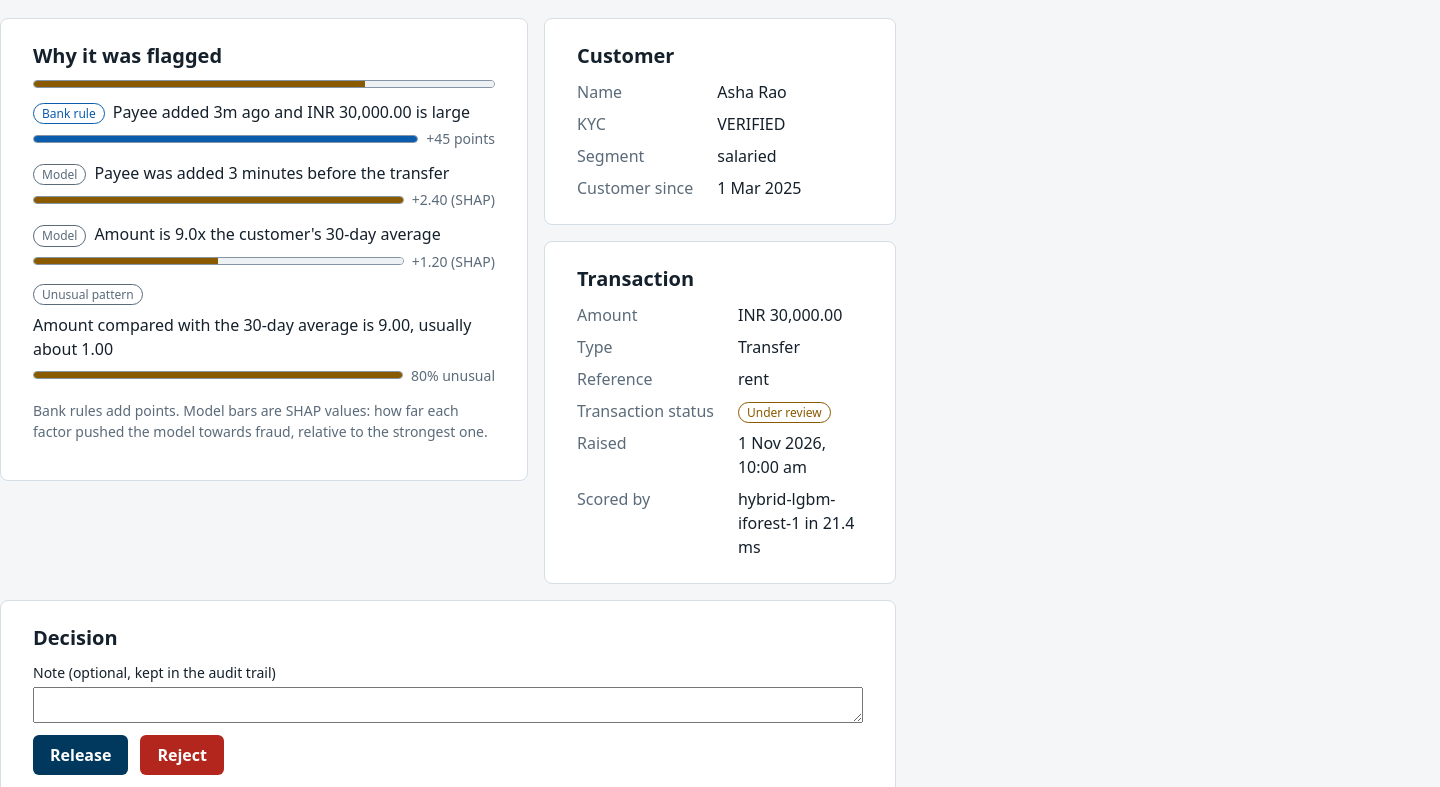
FraudAlert › Reject asks for confirmation and posts the decision with the note
(page scrolled)
In the text box labelled "Note (optional, kept in the audit trail)": [448, 705] box [33, 687, 863, 723], type "called the customer"
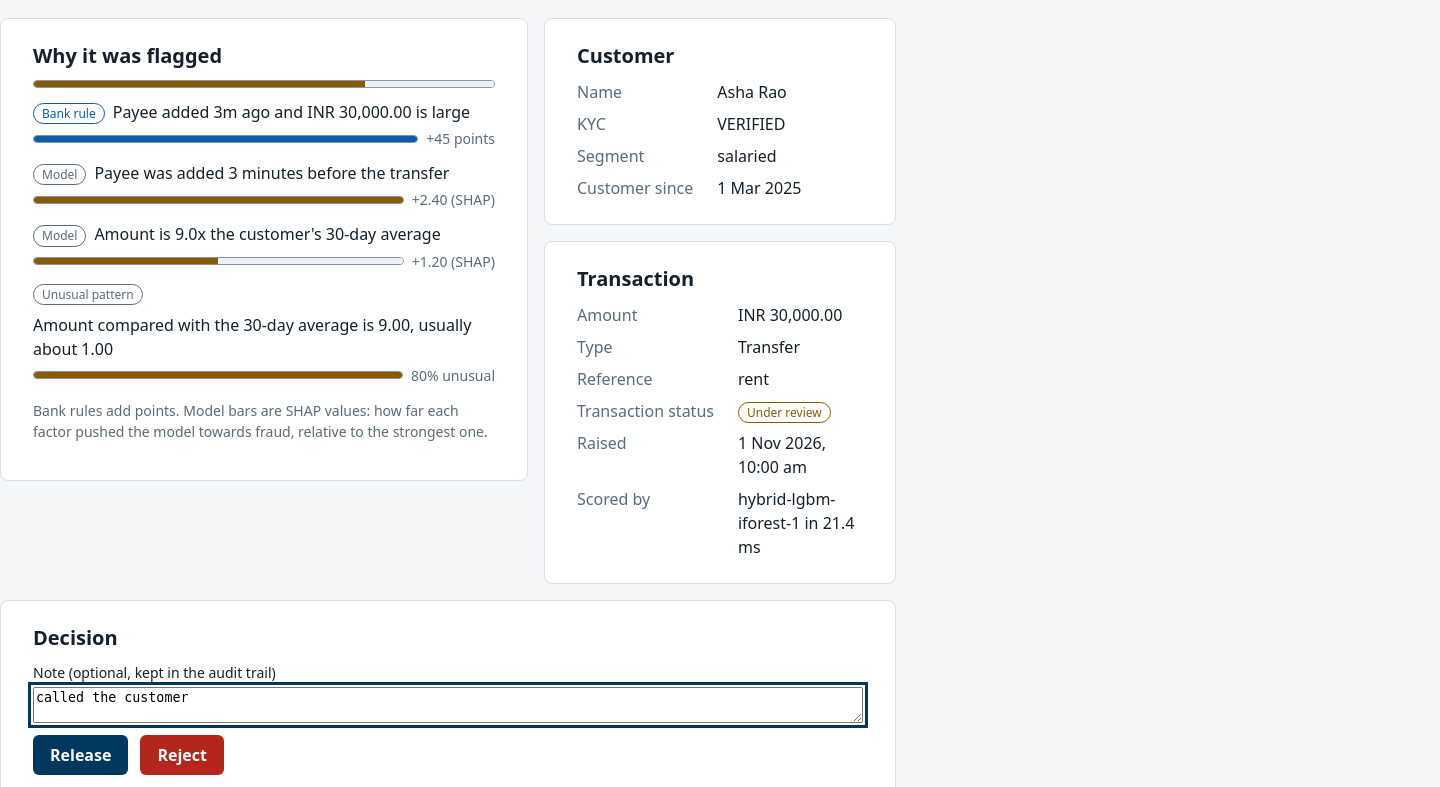
Click the button "Reject": [182, 755] box [140, 735, 224, 775]
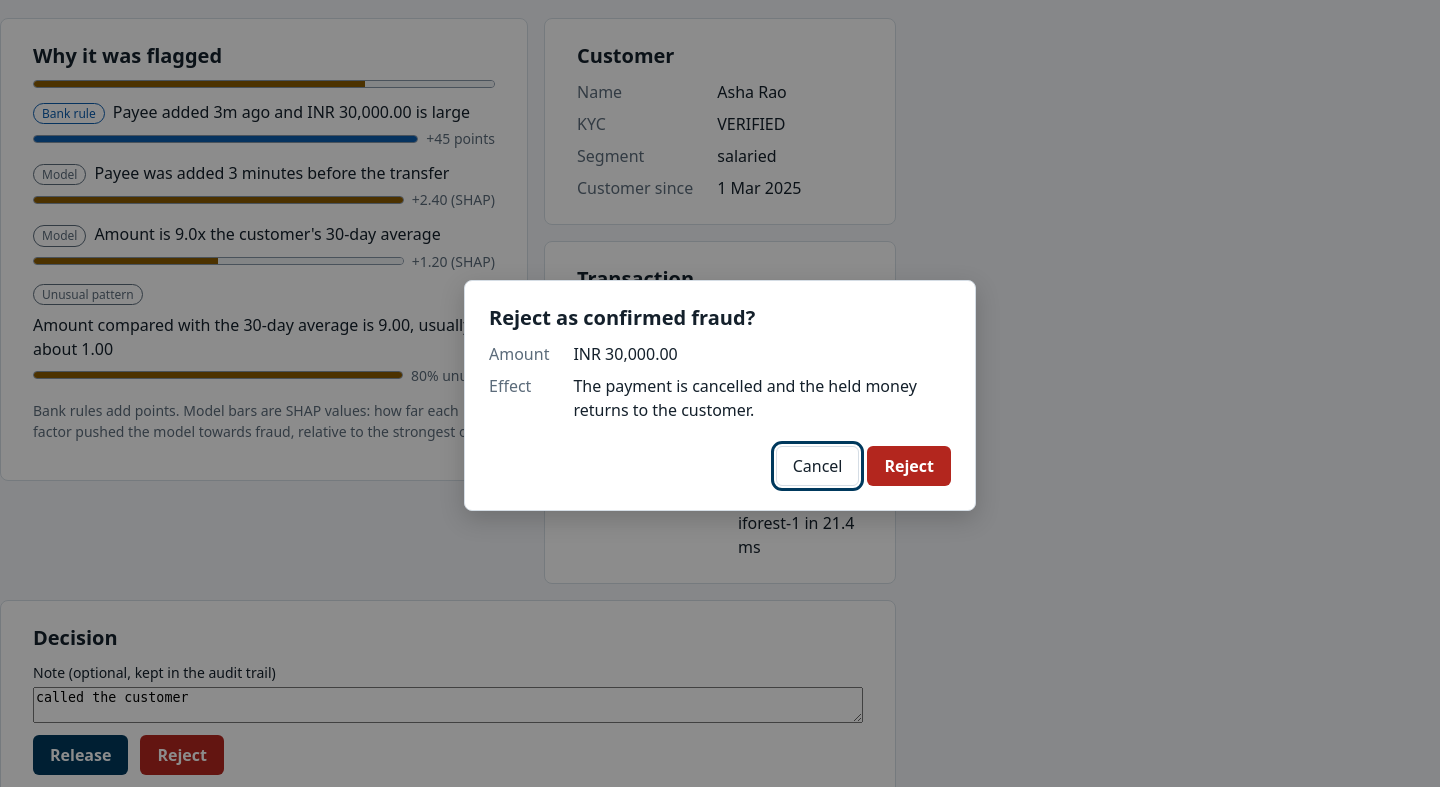
Click the button "Reject": [909, 466] box [868, 446, 951, 486]
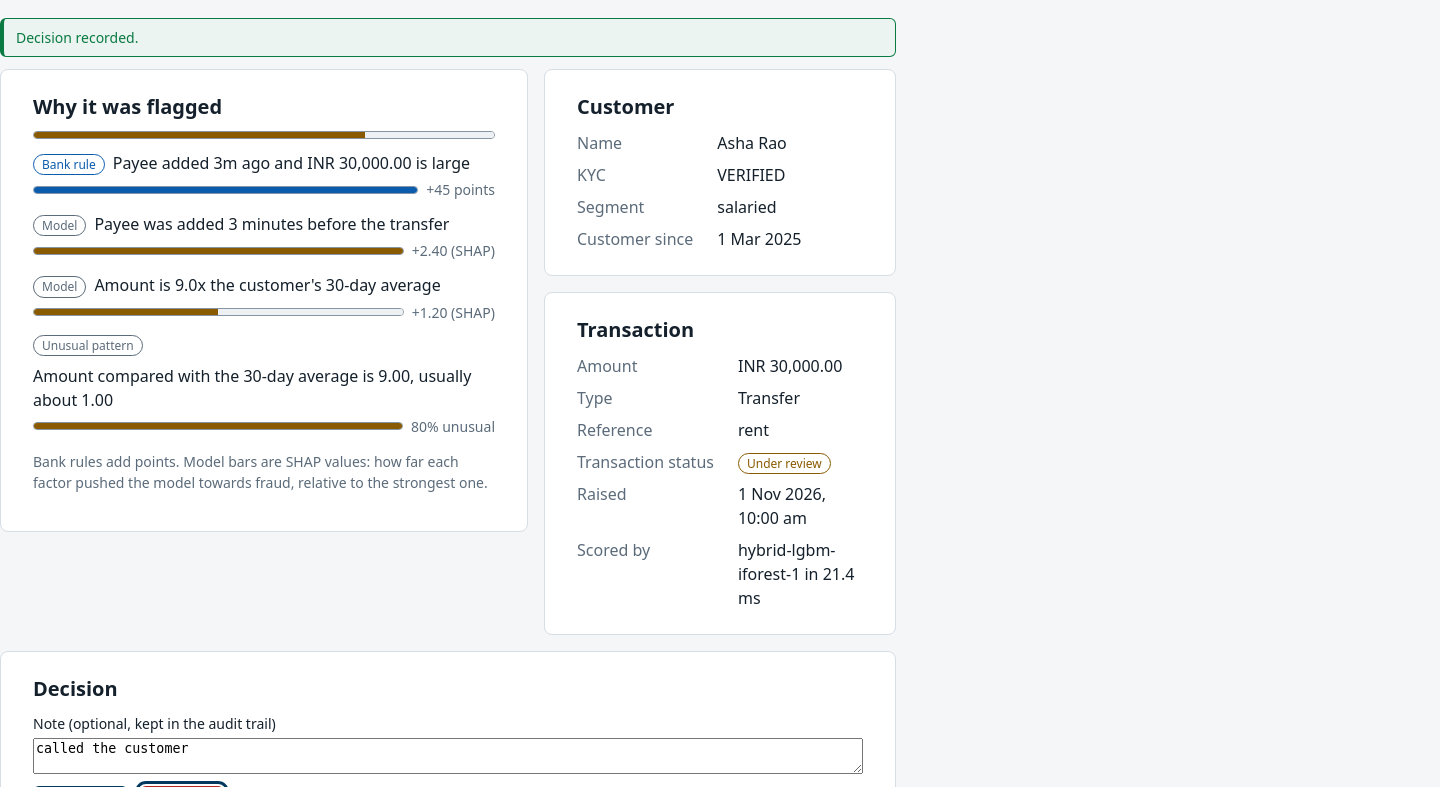
Now the text "Decision recorded." is shown, box [0, 18, 896, 57]
